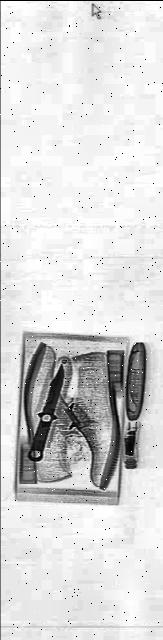Knife: (25, 340, 66, 488)
